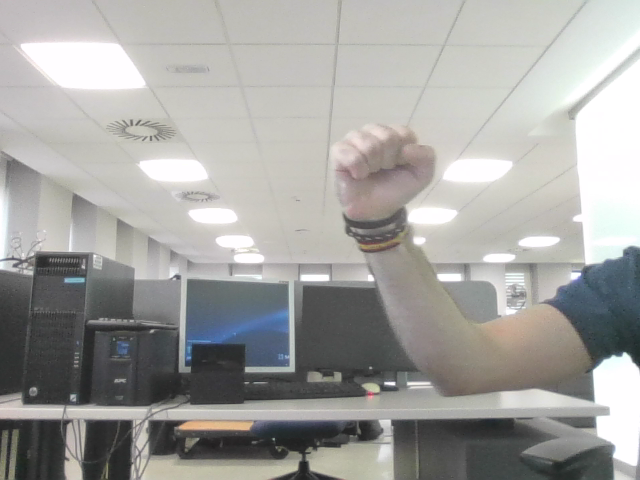Puño: (342, 132, 422, 195)
